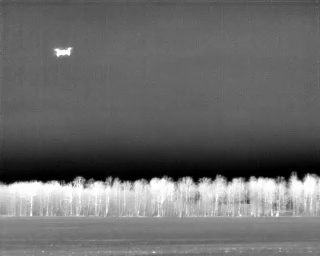DRONE: (50, 43, 76, 63)
